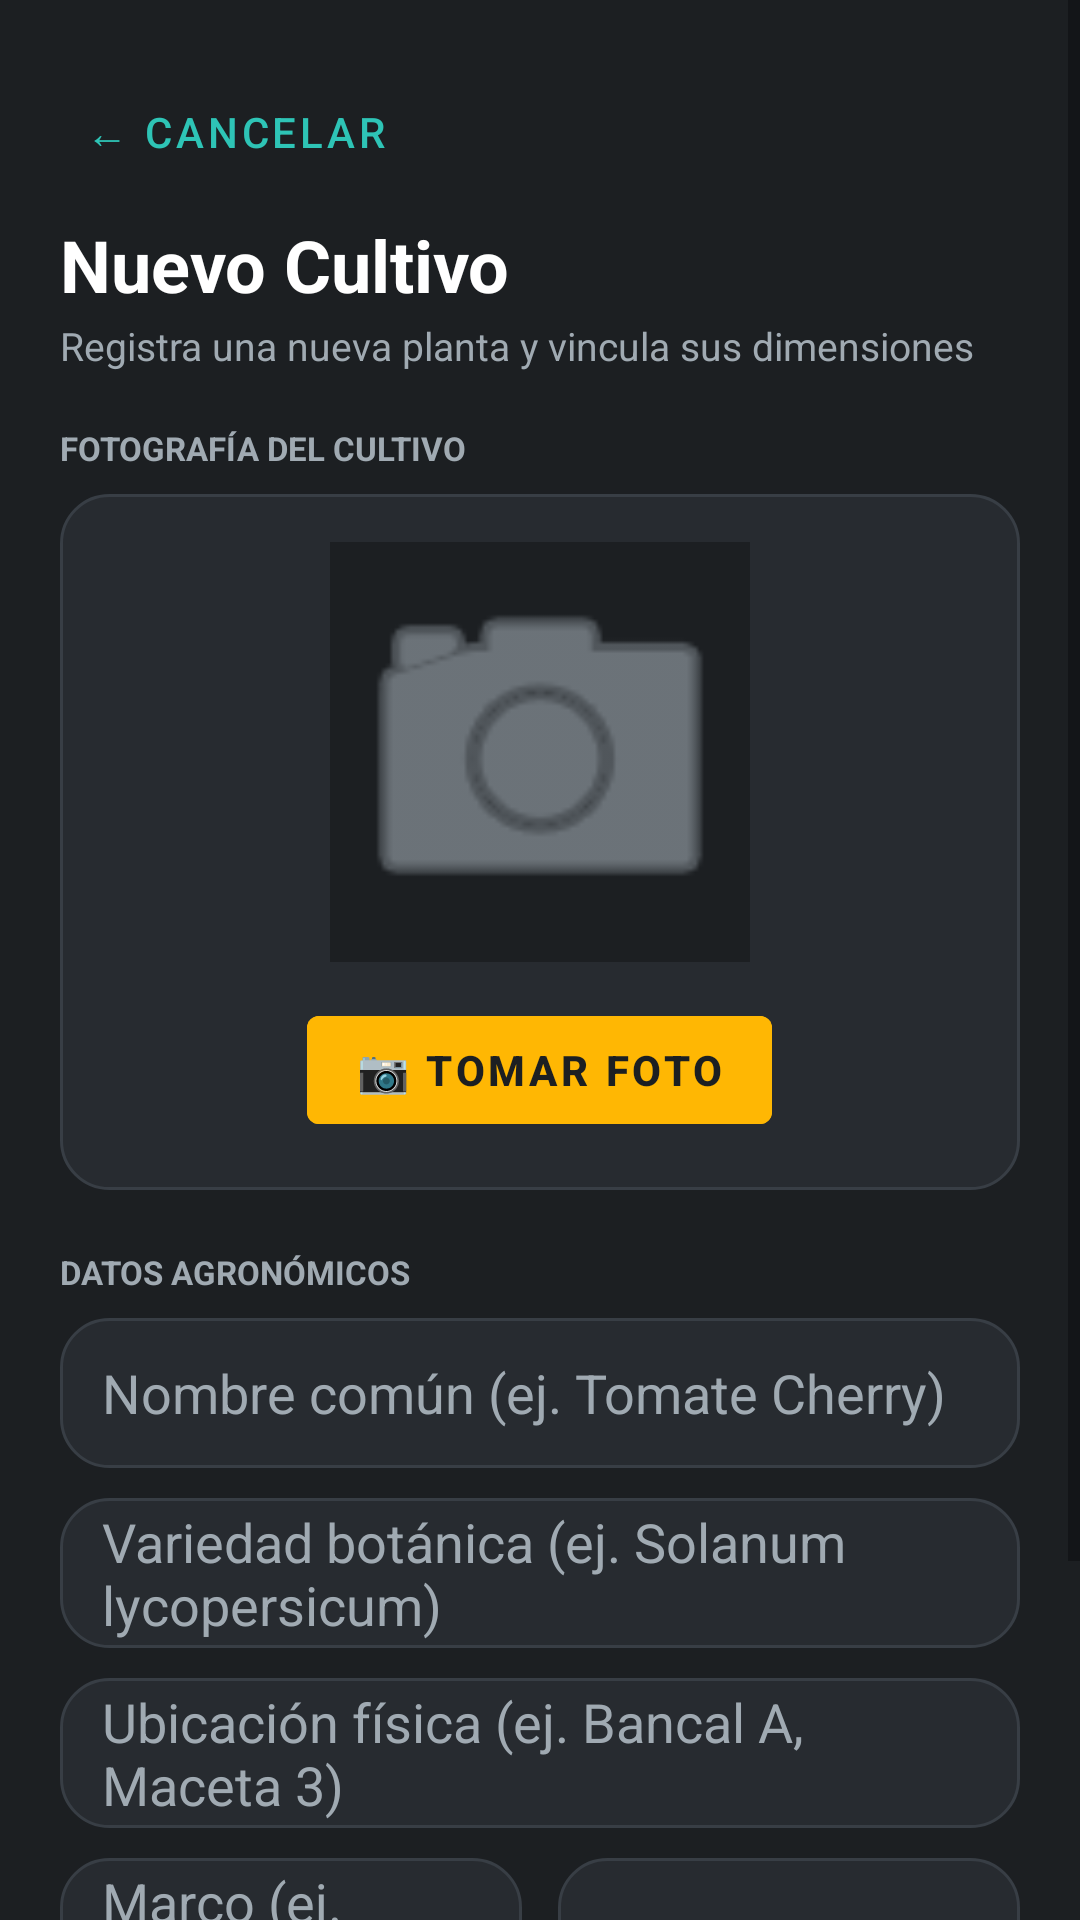

Screen size 1080px×1920px. Icon name, then its box in pixels as (x1, y1, x2, y2):
Foto del cultivo: (380, 619, 700, 872)
